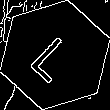L_NE: (26, 26, 84, 84)
